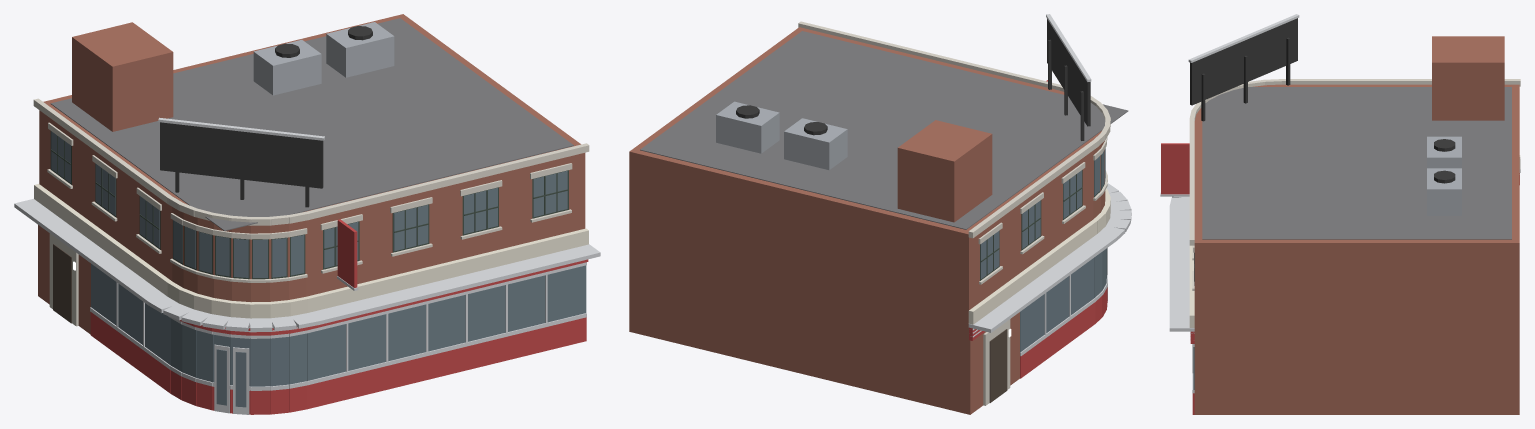
Rendered from corner_diner.glb.
The picture shows the model from 3 angles, left to right: view 1: azimuth 30°, elevation 25°; view 2: azimuth 150°, elevation 25°; view 3: azimuth 270°, elevation 25°; orthographic projection. The views are drawn at different scales.
Parts seen in each view (by area): view 1: corner_diner; view 2: corner_diner; view 3: corner_diner.
Part boxes in pixels (x1,y1,x2,y2): corner_diner: (14,14,600,414); corner_diner: (629,14,1131,414); corner_diner: (1160,14,1520,414).
Bounding box in the file's own units: 16.05 × 10.6 × 14.43.
